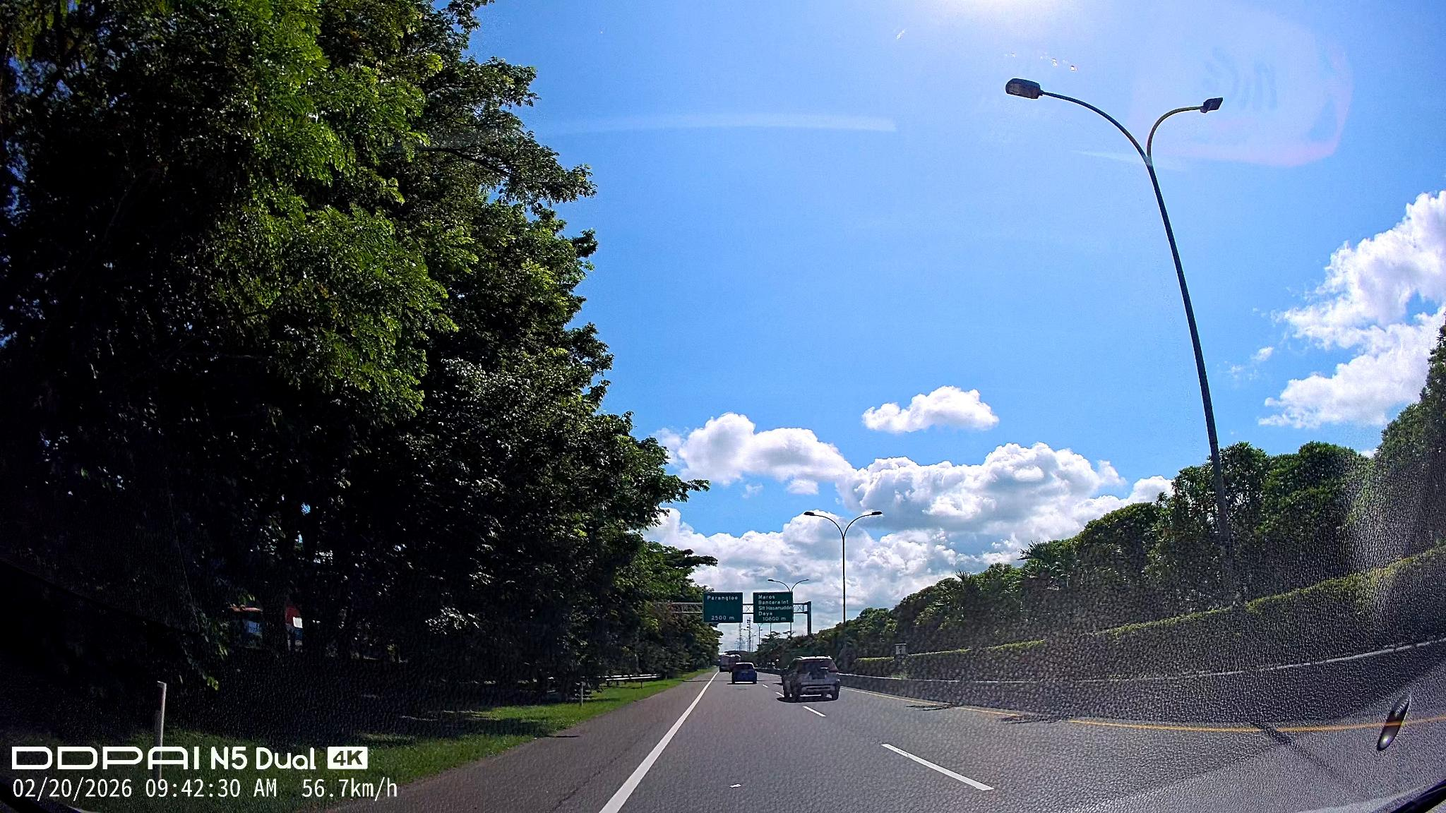rambu_teks: (752, 591, 794, 625), (703, 591, 743, 624)
